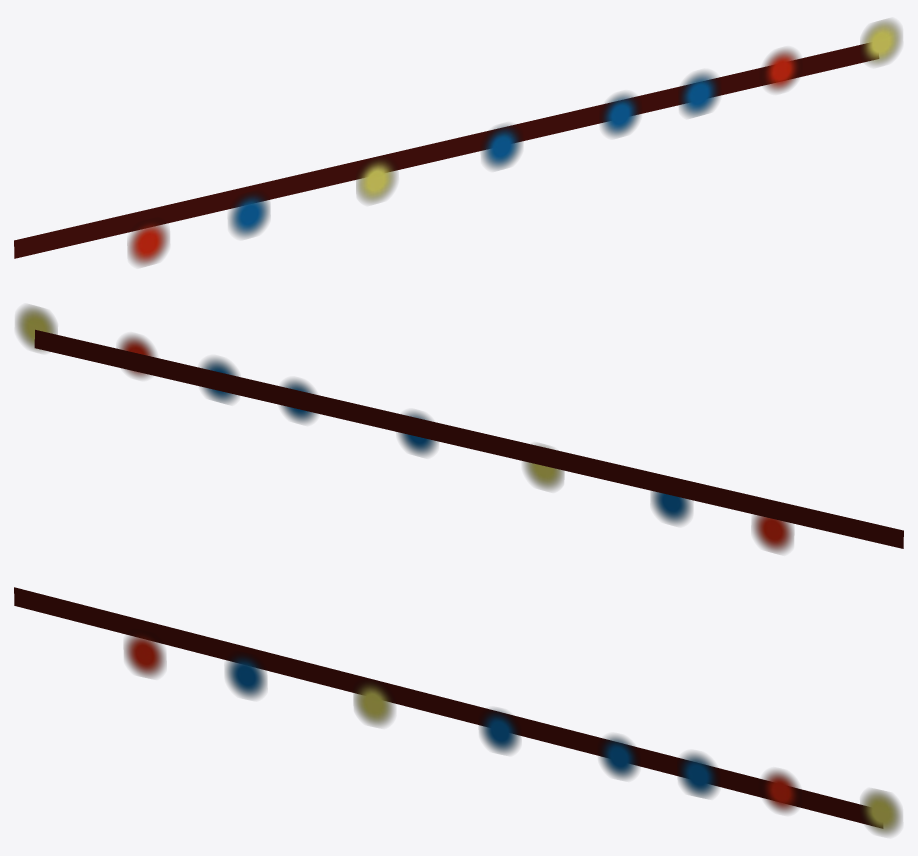
The model's file is pm-lights-01.glb.
The picture shows the model from 3 angles, top to bottom: view 1: azimuth 30°, elevation 25°; view 2: azimuth 150°, elevation 25°; view 3: azimuth 330°, elevation 25°; orthographic projection.
Visible parts, largest first — view 1: Lights01; view 2: Lights01; view 3: Lights01.
Part boxes in pixels (bbox=[...]): Lights01: bbox=[14, 19, 902, 266]; Lights01: bbox=[15, 305, 903, 553]; Lights01: bbox=[14, 587, 902, 836].
Size of the model in its own units: 2.97 by 0.2185 by 0.0123.
Materials: 1 (1 with a texture image).
